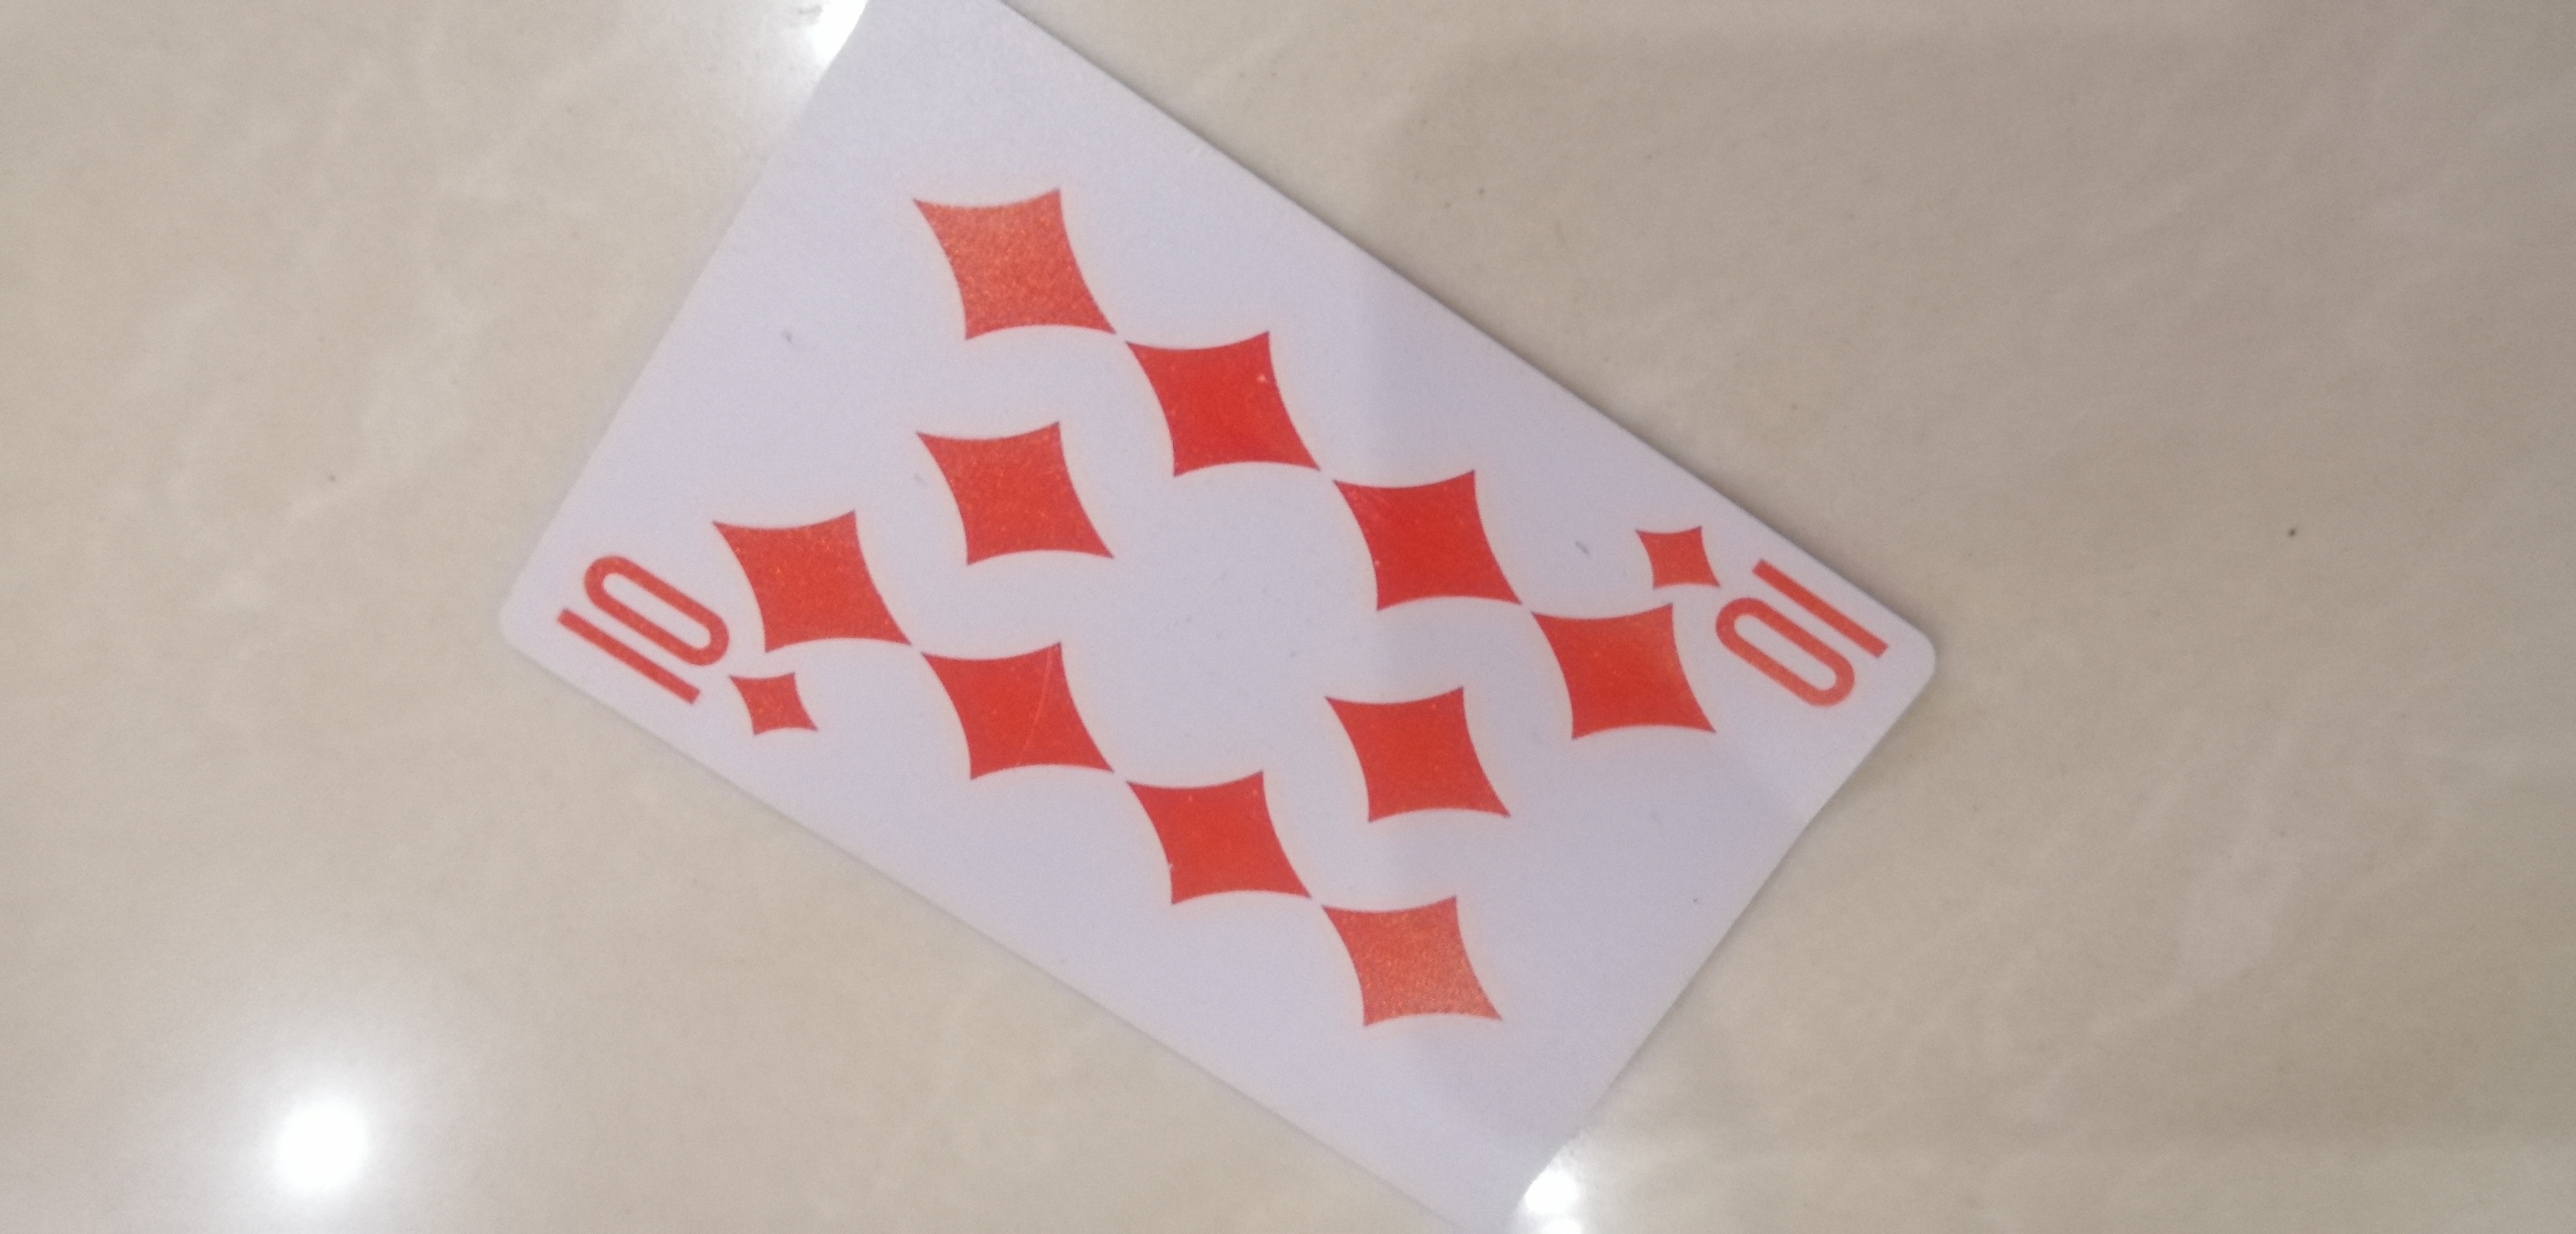ten: (471, 30, 1925, 1183)
